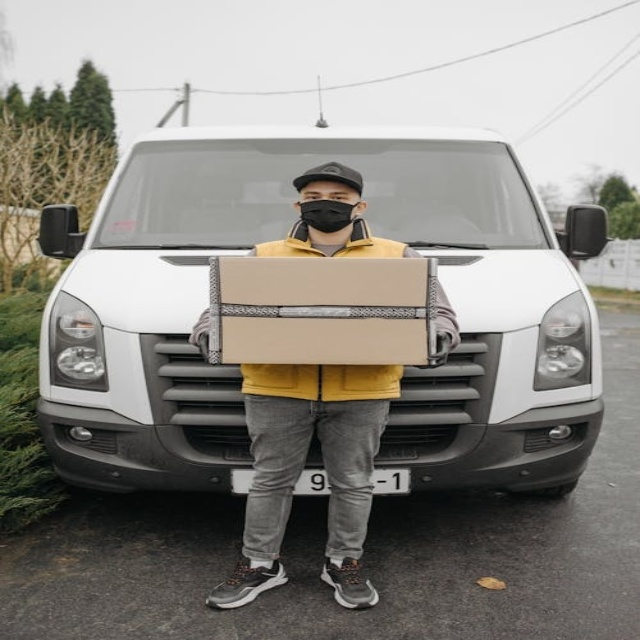Guantes: (404, 329, 456, 370)
Mascara: (298, 200, 359, 232)
Sin_gafas: (296, 187, 353, 201)
